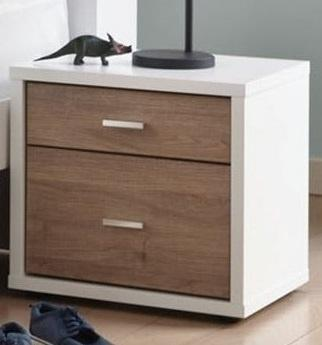cabinet_door: (26, 155, 232, 284), (28, 91, 231, 152)
handle: (96, 210, 148, 236), (97, 114, 149, 134)
